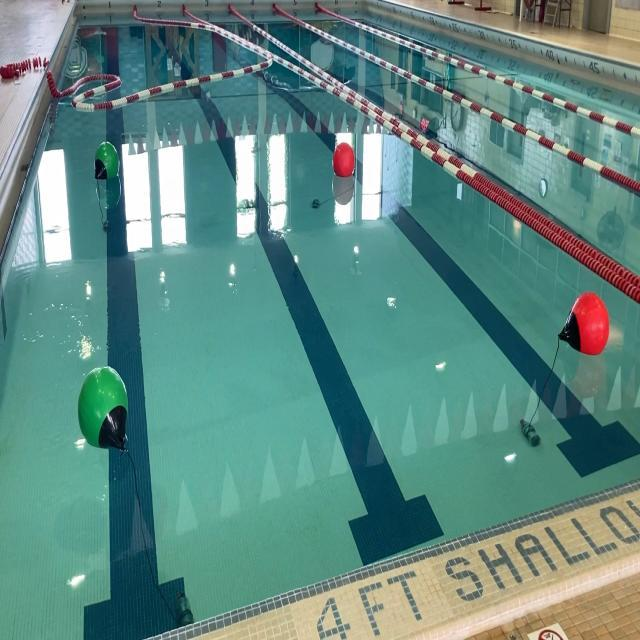buoy: (78, 364, 130, 453), (560, 294, 611, 354), (93, 138, 120, 186), (333, 142, 355, 180)
